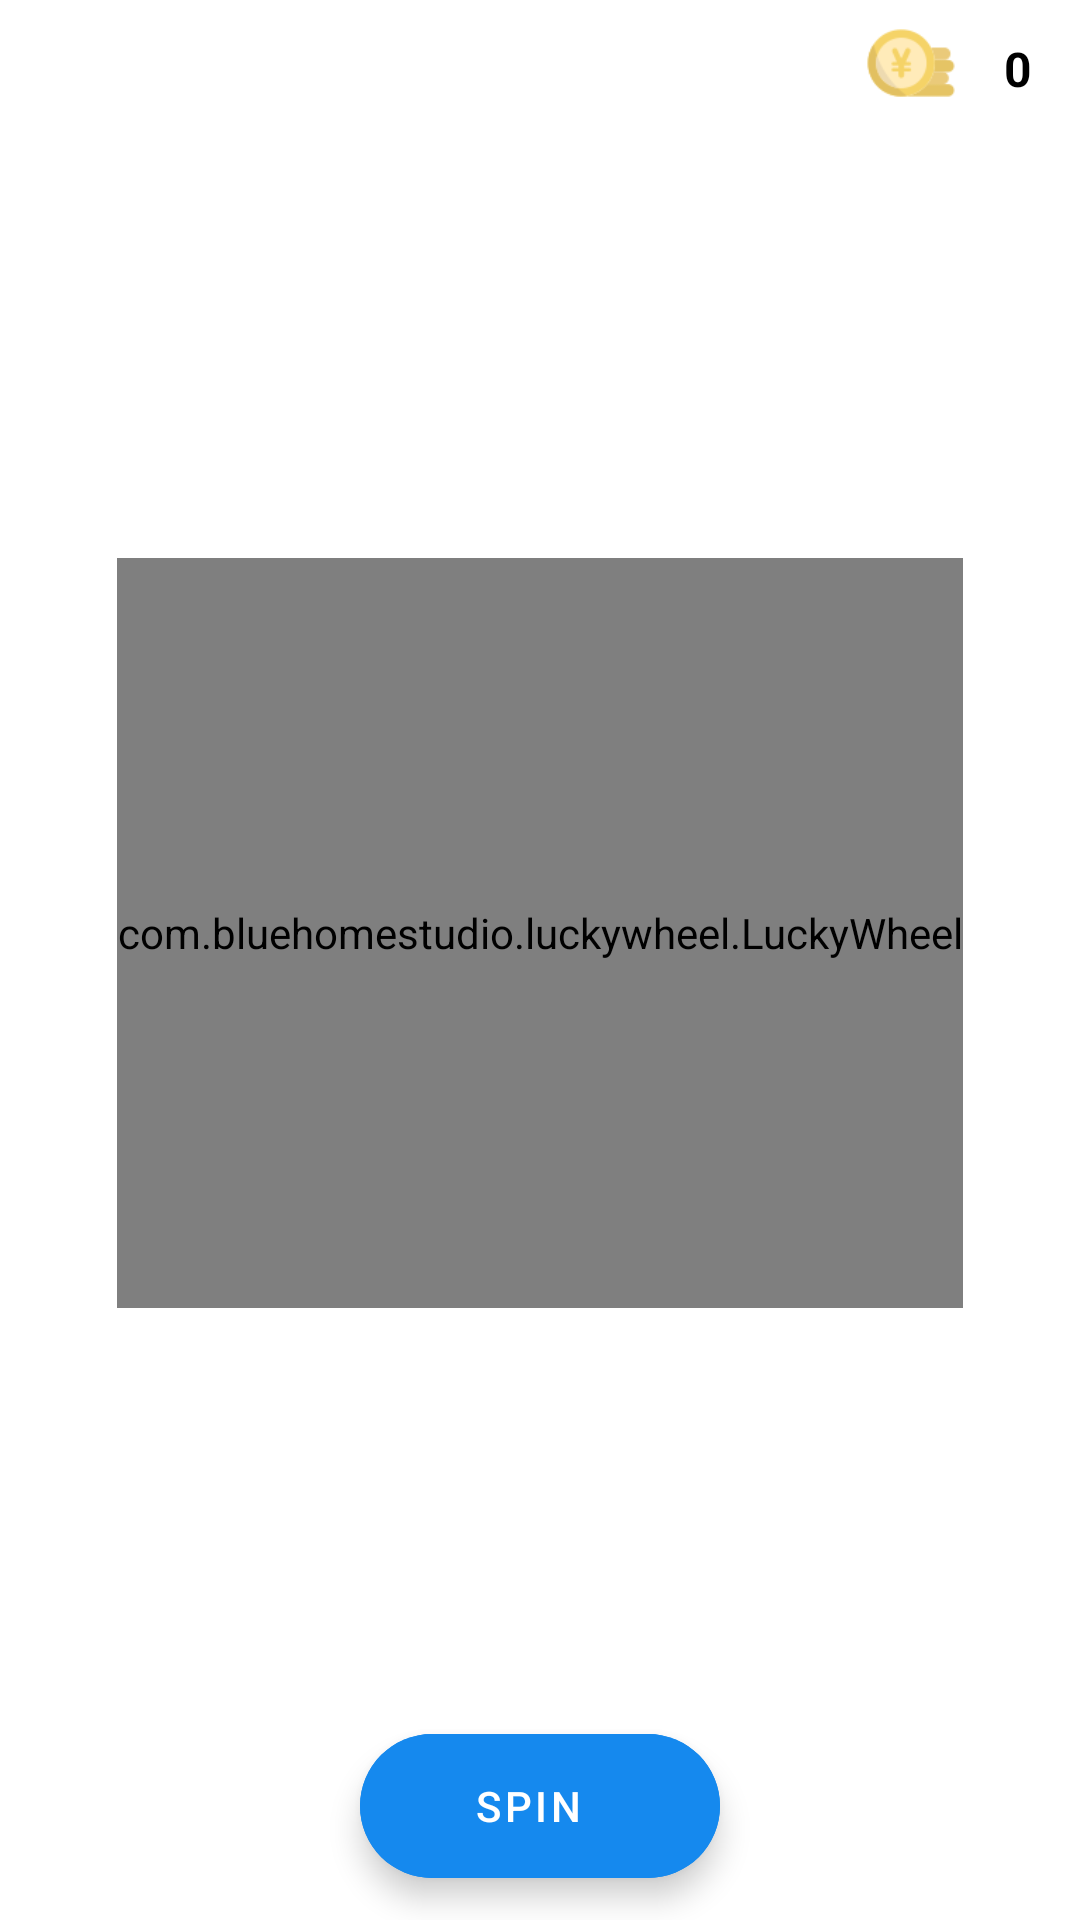

Where to tap for icons on this 1080w x 1920h app screen, as [x,y]:
coins: [911,63]
